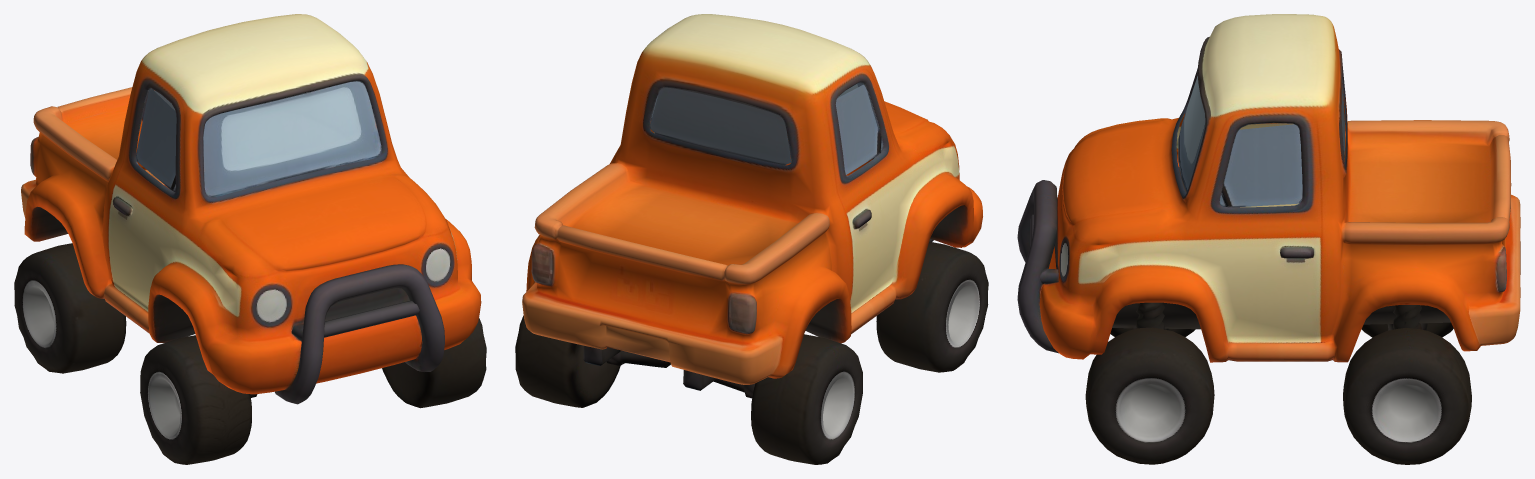
The model's file is car-tosbik.glb.
The picture shows the model from 3 angles, left to right: view 1: azimuth 30°, elevation 25°; view 2: azimuth 150°, elevation 25°; view 3: azimuth 270°, elevation 25°; orthographic projection. The views are drawn at different scales.
Visible parts, largest first — view 1: tripo_node_b7bda91c-4754-42e2-9ad4-27059b93db9d; view 2: tripo_node_b7bda91c-4754-42e2-9ad4-27059b93db9d; view 3: tripo_node_b7bda91c-4754-42e2-9ad4-27059b93db9d.
Boxes of the visible parts, x1,y1,x2,y2 form: tripo_node_b7bda91c-4754-42e2-9ad4-27059b93db9d: (14,14,486,464); tripo_node_b7bda91c-4754-42e2-9ad4-27059b93db9d: (515,14,988,464); tripo_node_b7bda91c-4754-42e2-9ad4-27059b93db9d: (1017,14,1520,464).
Bounding box in the file's own units: 0.6978 × 0.772 × 0.9995.
Materials: 1 (1 with a texture image).
